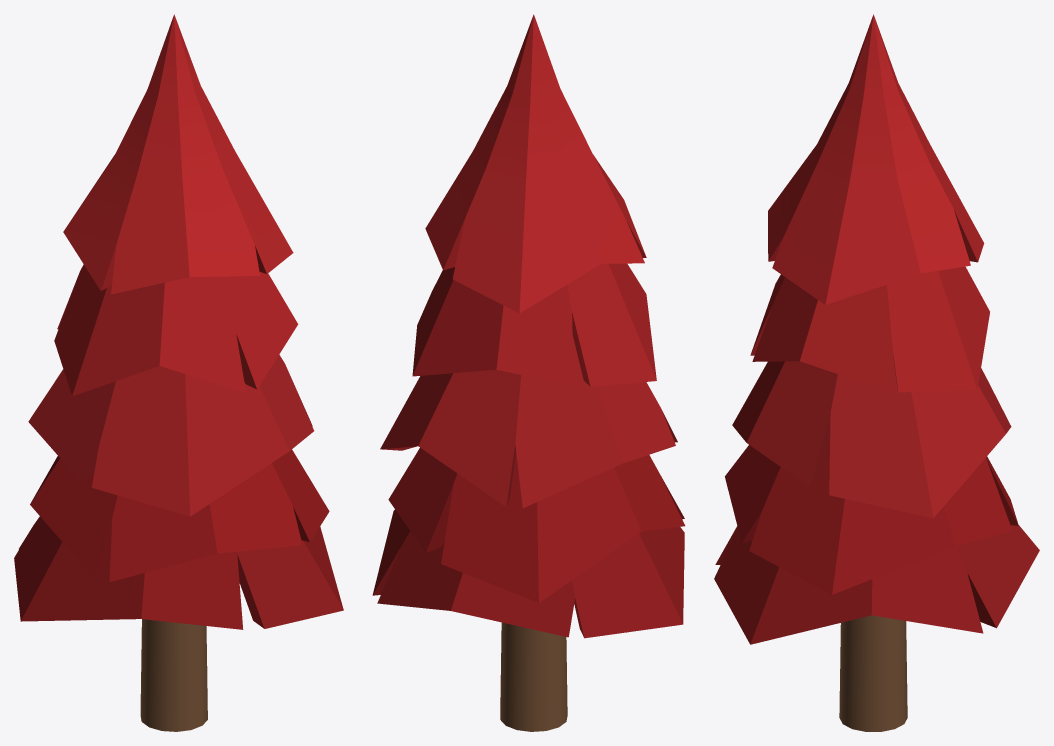
Rendered from Spruce_Red_Thin_3.fbx.
The picture shows the model from 3 angles, left to right: view 1: azimuth 30°, elevation 25°; view 2: azimuth 150°, elevation 25°; view 3: azimuth 270°, elevation 25°; orthographic projection.
Visible parts, largest first — view 1: Cylinder.501, Cylinder.500, Cylinder.499, Cylinder.497, Cylinder.498, Cylinder.496; view 2: Cylinder.501, Cylinder.500, Cylinder.498, Cylinder.499, Cylinder.497, Cylinder.496; view 3: Cylinder.501, Cylinder.500, Cylinder.498, Cylinder.499, Cylinder.497, Cylinder.496.
Boxes of the visible parts, left/top/right/bottom form: Cylinder.501: left=63, top=14, right=293, bottom=294; Cylinder.500: left=28, top=354, right=313, bottom=516; Cylinder.499: left=54, top=264, right=298, bottom=396; Cylinder.497: left=14, top=516, right=343, bottom=629; Cylinder.498: left=30, top=449, right=329, bottom=582; Cylinder.496: left=140, top=619, right=207, bottom=731; Cylinder.501: left=425, top=14, right=646, bottom=313; Cylinder.500: left=380, top=336, right=677, bottom=508; Cylinder.498: left=388, top=447, right=685, bottom=602; Cylinder.499: left=412, top=263, right=656, bottom=386; Cylinder.497: left=372, top=509, right=684, bottom=638; Cylinder.496: left=500, top=622, right=567, bottom=731; Cylinder.501: left=768, top=14, right=984, bottom=304; Cylinder.500: left=732, top=355, right=1011, bottom=518; Cylinder.498: left=725, top=440, right=1018, bottom=594; Cylinder.499: left=750, top=266, right=989, bottom=392; Cylinder.497: left=714, top=525, right=1039, bottom=644; Cylinder.496: left=839, top=615, right=907, bottom=731.
Size of the model in its own units: 247 by 567 by 238.
